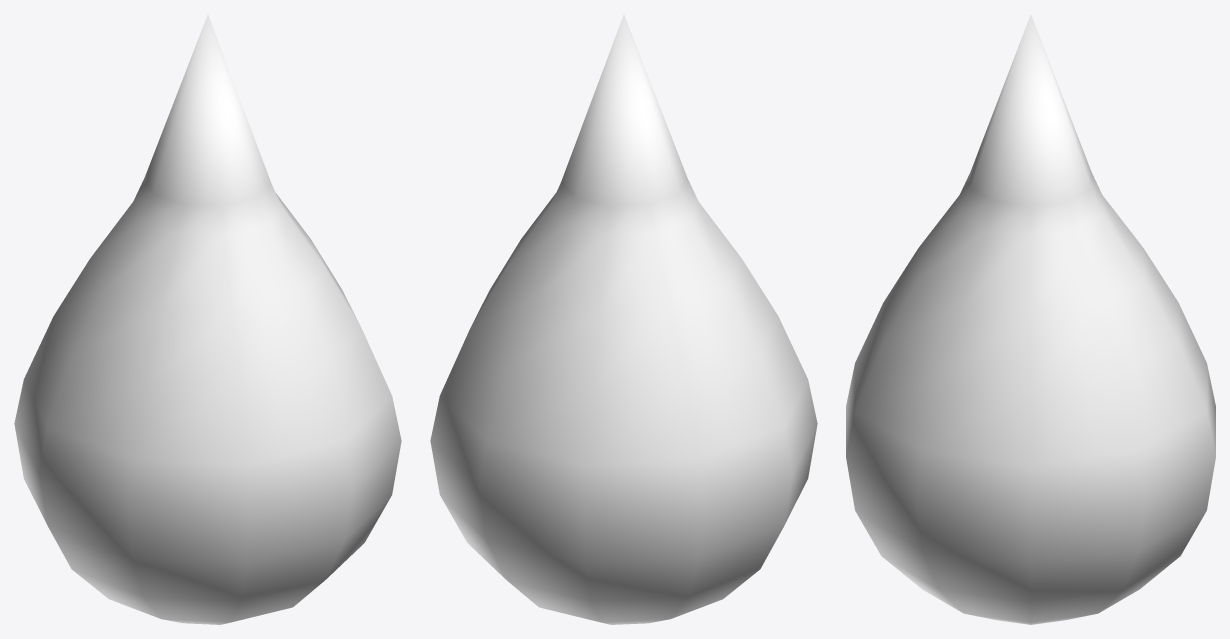
File: Bird_Poop_Model.fbx
3 renders of one model, left to right at view 1: azimuth 30°, elevation 25°; view 2: azimuth 150°, elevation 25°; view 3: azimuth 270°, elevation 25°, orthographic.
Parts seen in each view (by area): view 1: BirdPoop; view 2: BirdPoop; view 3: BirdPoop.
Boxes of the visible parts, x1,y1,x2,y2 form: BirdPoop: (14,14,401,624); BirdPoop: (430,14,817,624); BirdPoop: (846,14,1215,624).
Bounding box in the file's own units: 21.82 × 36.77 × 20.75.
1 material, 1 textured.
